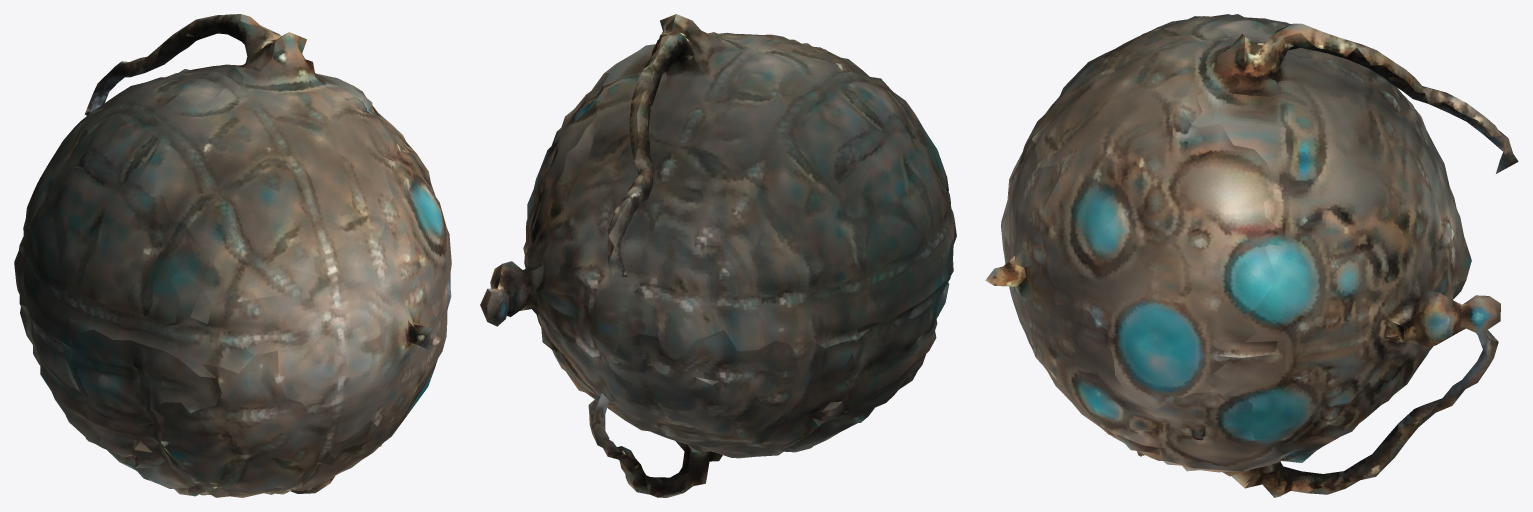
File: swarm.glb
3 views of the same model, side by side, from view 1: azimuth 30°, elevation 25°; view 2: azimuth 150°, elevation 25°; view 3: azimuth 270°, elevation 25° (orthographic). The views are drawn at different scales.
Visible parts, largest first — view 1: swarm; view 2: swarm; view 3: swarm.
Part boxes in pixels (box(x1,y1,x2,y2)): swarm: box(14, 14, 451, 497); swarm: box(480, 14, 956, 497); swarm: box(985, 14, 1518, 497).
Bounding box in the file's own units: 1.54 × 1.8 × 1.81.
Materials: 1 (1 with a texture image).
